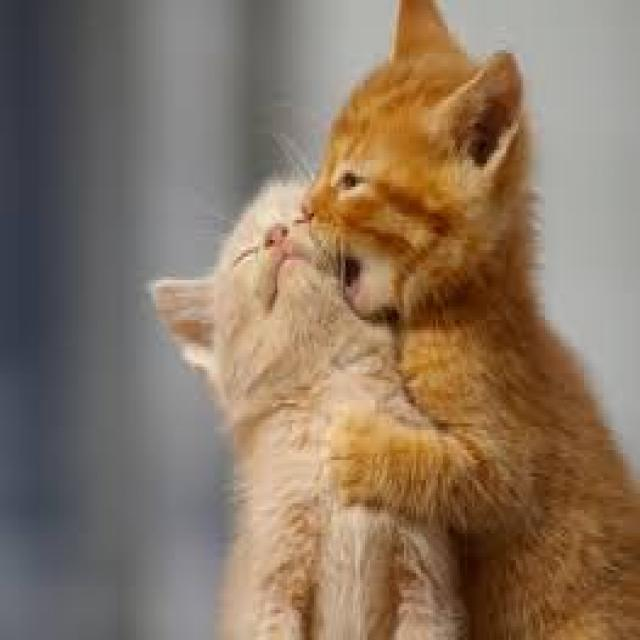Cat: (301, 1, 640, 411), (149, 173, 338, 402)
